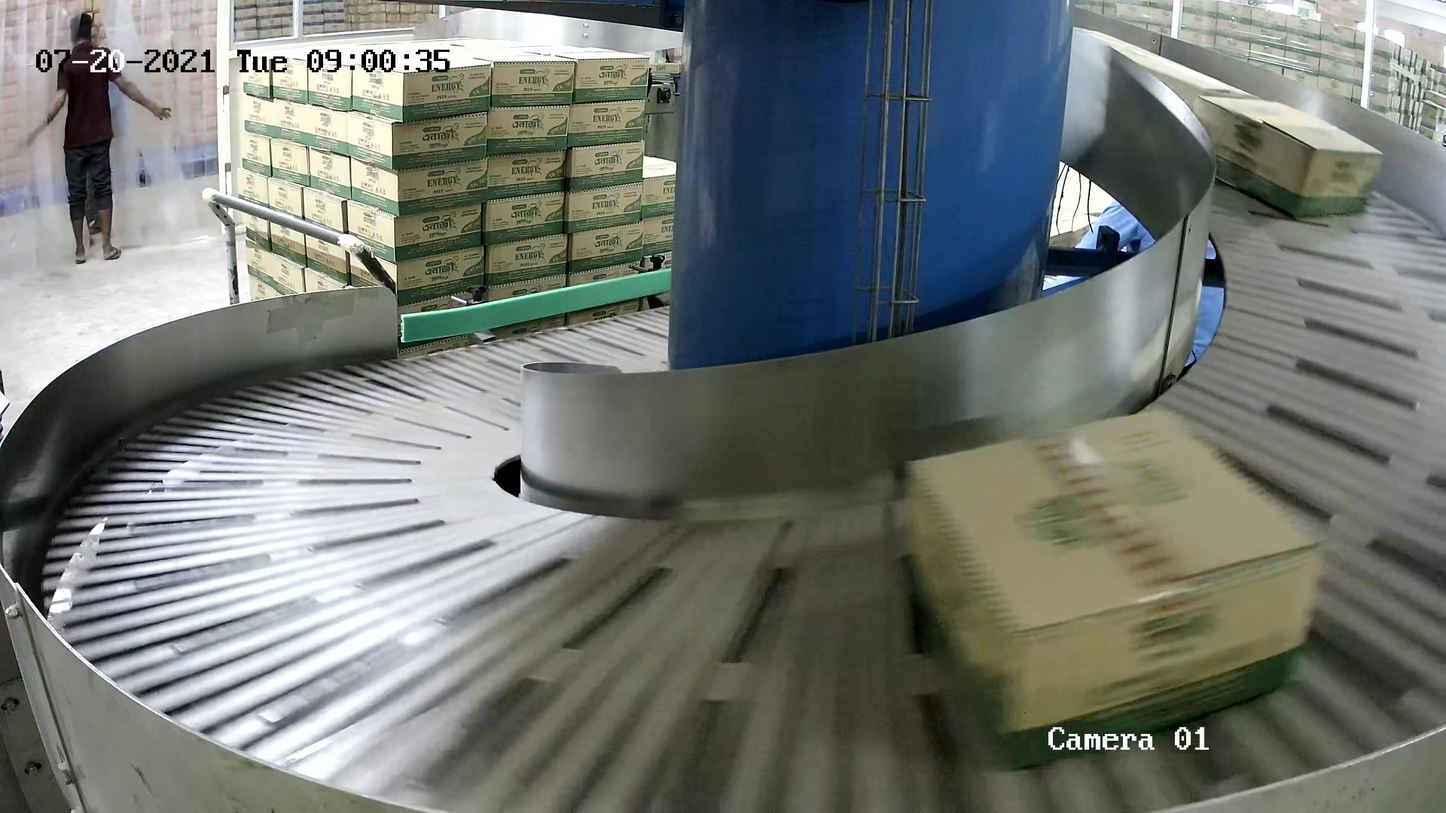Box: (906, 405, 1325, 774), (1187, 96, 1392, 226)
